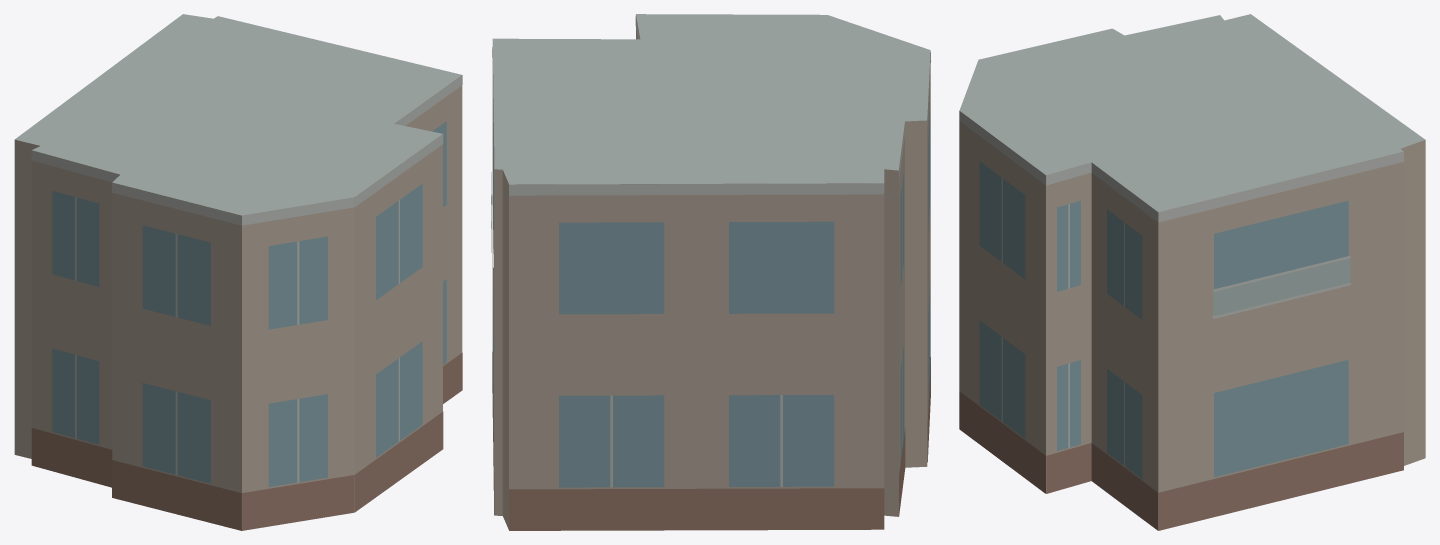
File: survey-upis-32619483.glb
3 renders of one model, left to right at view 1: azimuth 30°, elevation 25°; view 2: azimuth 150°, elevation 25°; view 3: azimuth 270°, elevation 25°, orthographic. The views are drawn at different scales.
Visible parts, largest first — view 1: survey-upis-32619483.tmp; view 2: survey-upis-32619483.tmp; view 3: survey-upis-32619483.tmp.
Part boxes in pixels (x1=…): survey-upis-32619483.tmp: x1=14, y1=14, x2=462, y2=530; survey-upis-32619483.tmp: x1=491, y1=14, x2=930, y2=530; survey-upis-32619483.tmp: x1=959, y1=14, x2=1425, y2=530.
Size of the model in its own units: 10.15 by 7.6 by 10.09.
